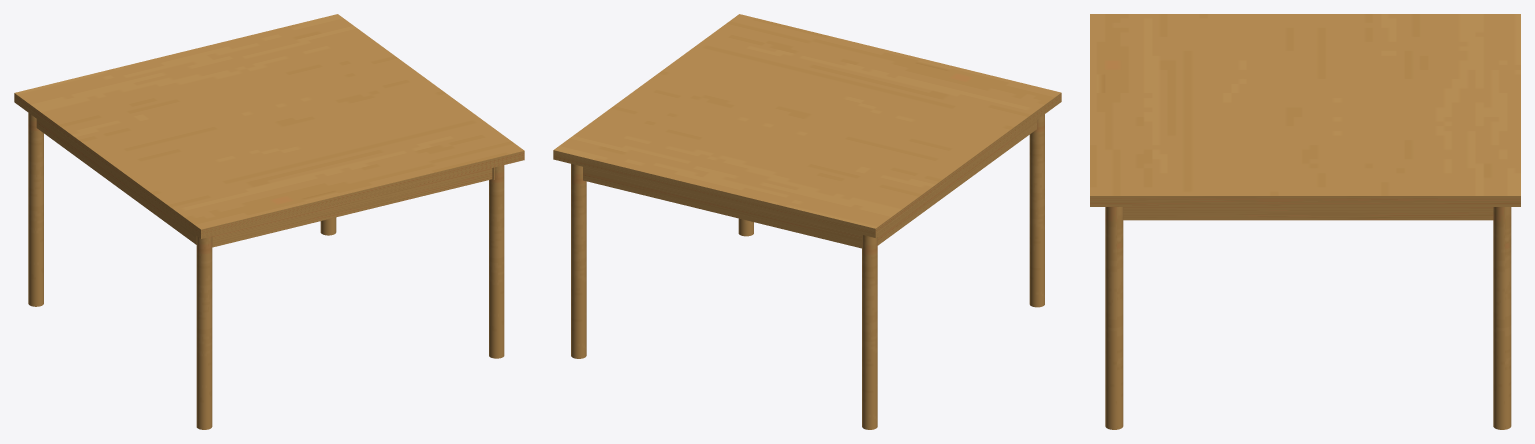
Rendered from wood_desk.fbx.
3 renders of one model, left to right at view 1: azimuth 30°, elevation 25°; view 2: azimuth 150°, elevation 25°; view 3: azimuth 270°, elevation 25°, orthographic. The views are drawn at different scales.
Parts seen in each view (by area): view 1: pCube7; view 2: pCube7; view 3: pCube7.
Part boxes in pixels (x1=…): pCube7: x1=14, y1=14, x2=524, y2=429; pCube7: x1=553, y1=14, x2=1061, y2=429; pCube7: x1=1090, y1=14, x2=1520, y2=429.
Size of the model in its own units: 5.37 by 3.3 by 5.37.
Materials: 1 (1 with a texture image).
